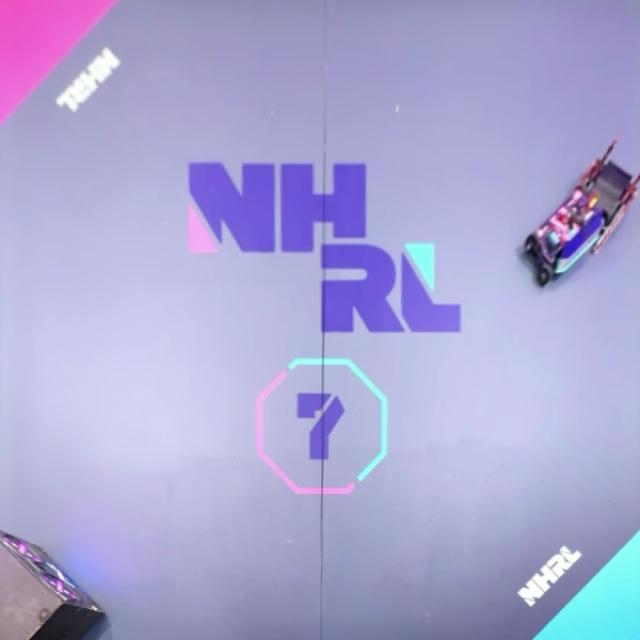housebot: (0, 529, 105, 640)
robot: (523, 187, 607, 287), (578, 139, 640, 237)
